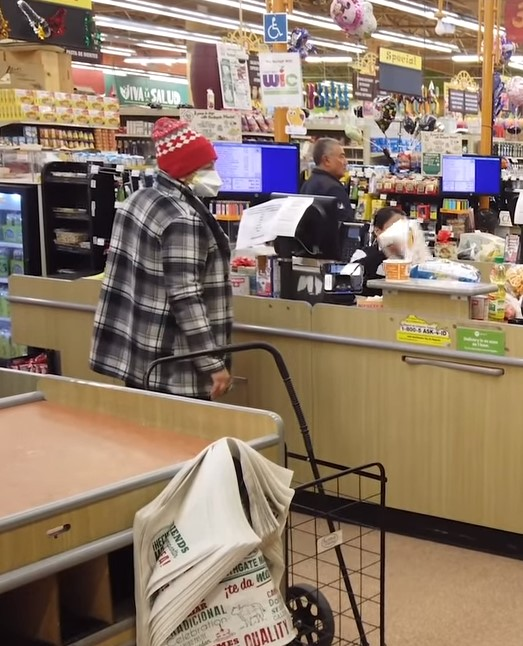face_no_mask: (307, 134, 351, 178)
face_with_mask: (153, 118, 224, 205)
